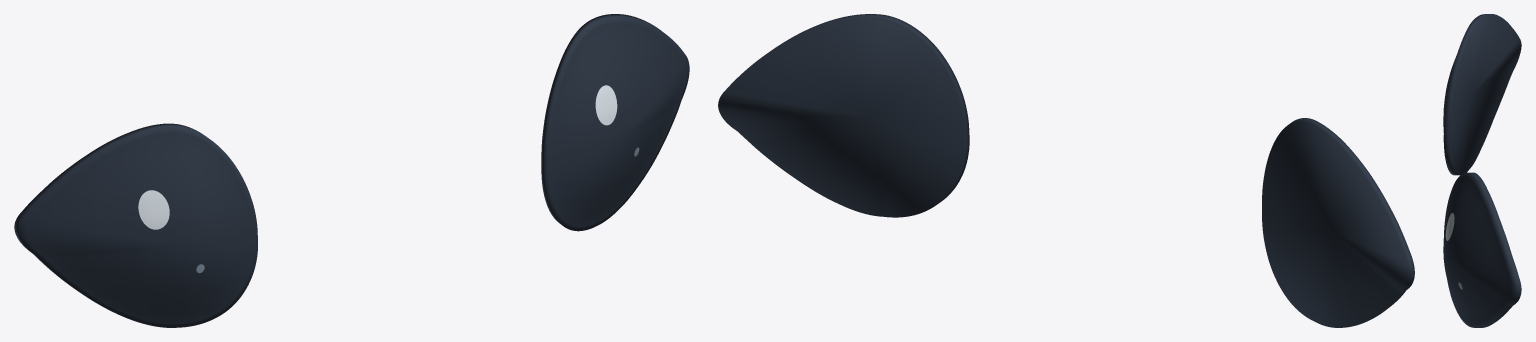
The model's file is Masculine-Masculine-eyes-tapered-e82a58bc.glb.
The picture shows the model from 3 angles, left to right: view 1: azimuth 30°, elevation 25°; view 2: azimuth 150°, elevation 25°; view 3: azimuth 270°, elevation 25°; orthographic projection. The views are drawn at different scales.
Parts seen in each view (by area): view 1: 226 eyes / Eye / smoky charcoal181, 226 eyes / Eye highlight181; view 2: 226 eyes / Eye / smoky charcoal181; view 3: 226 eyes / Eye / smoky charcoal181, 226 eyes / Eye highlight181.
Part boxes in pixels (x1,y1,x2,y2): 226 eyes / Eye / smoky charcoal181: (14,14,689,327); 226 eyes / Eye highlight181: (138,85,617,229); 226 eyes / Eye / smoky charcoal181: (718,14,1414,327); 226 eyes / Eye / smoky charcoal181: (1443,14,1521,327); 226 eyes / Eye highlight181: (1445,213,1454,240).
Bounding box in the file's own units: 0.5192 × 0.1459 × 0.0701.
